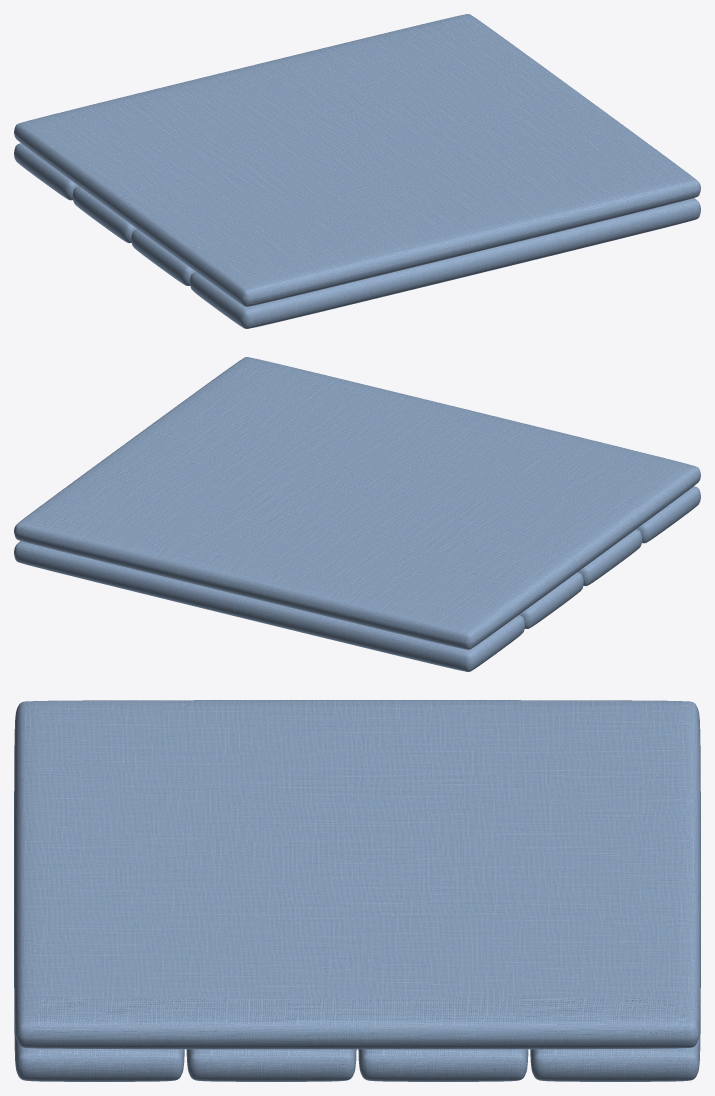
File: towel_folded.glb
3 views of the same model, one above another, from view 1: azimuth 30°, elevation 25°; view 2: azimuth 150°, elevation 25°; view 3: azimuth 270°, elevation 25° (orthographic). The views are drawn at different scales.
Parts seen in each view (by area): view 1: towel_folded; view 2: towel_folded; view 3: towel_folded.
Part boxes in pixels (box(x1,y1,x2,y2)): towel_folded: box(14, 14, 700, 328); towel_folded: box(14, 357, 700, 671); towel_folded: box(14, 700, 700, 1081).
Size of the model in its own units: 0.4998 by 0.0448 by 0.4398.
2 materials, 2 textured.
